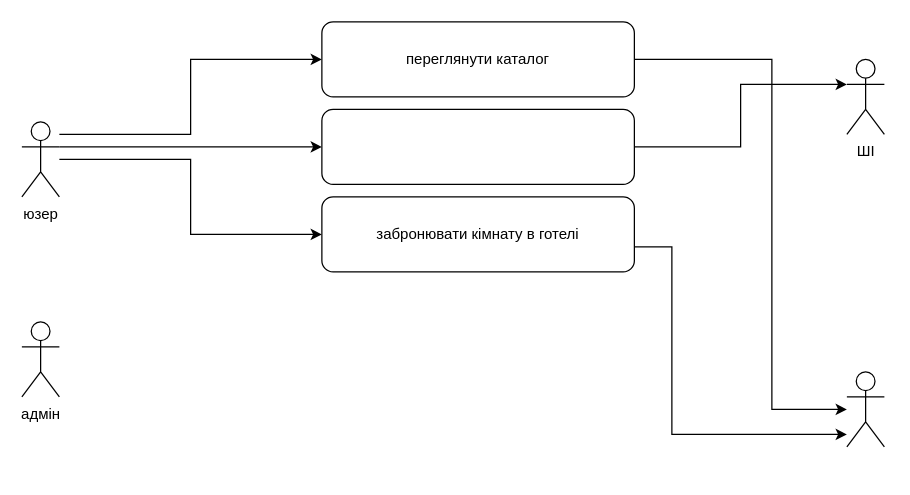
This 910x495 diagram has some shape labels left out. The box of each missing label's shape, as (x1, y1, x2, y2) in pixels:
поговорити з ші: (321, 108, 634, 184)
хуєсос: (846, 371, 884, 447)
